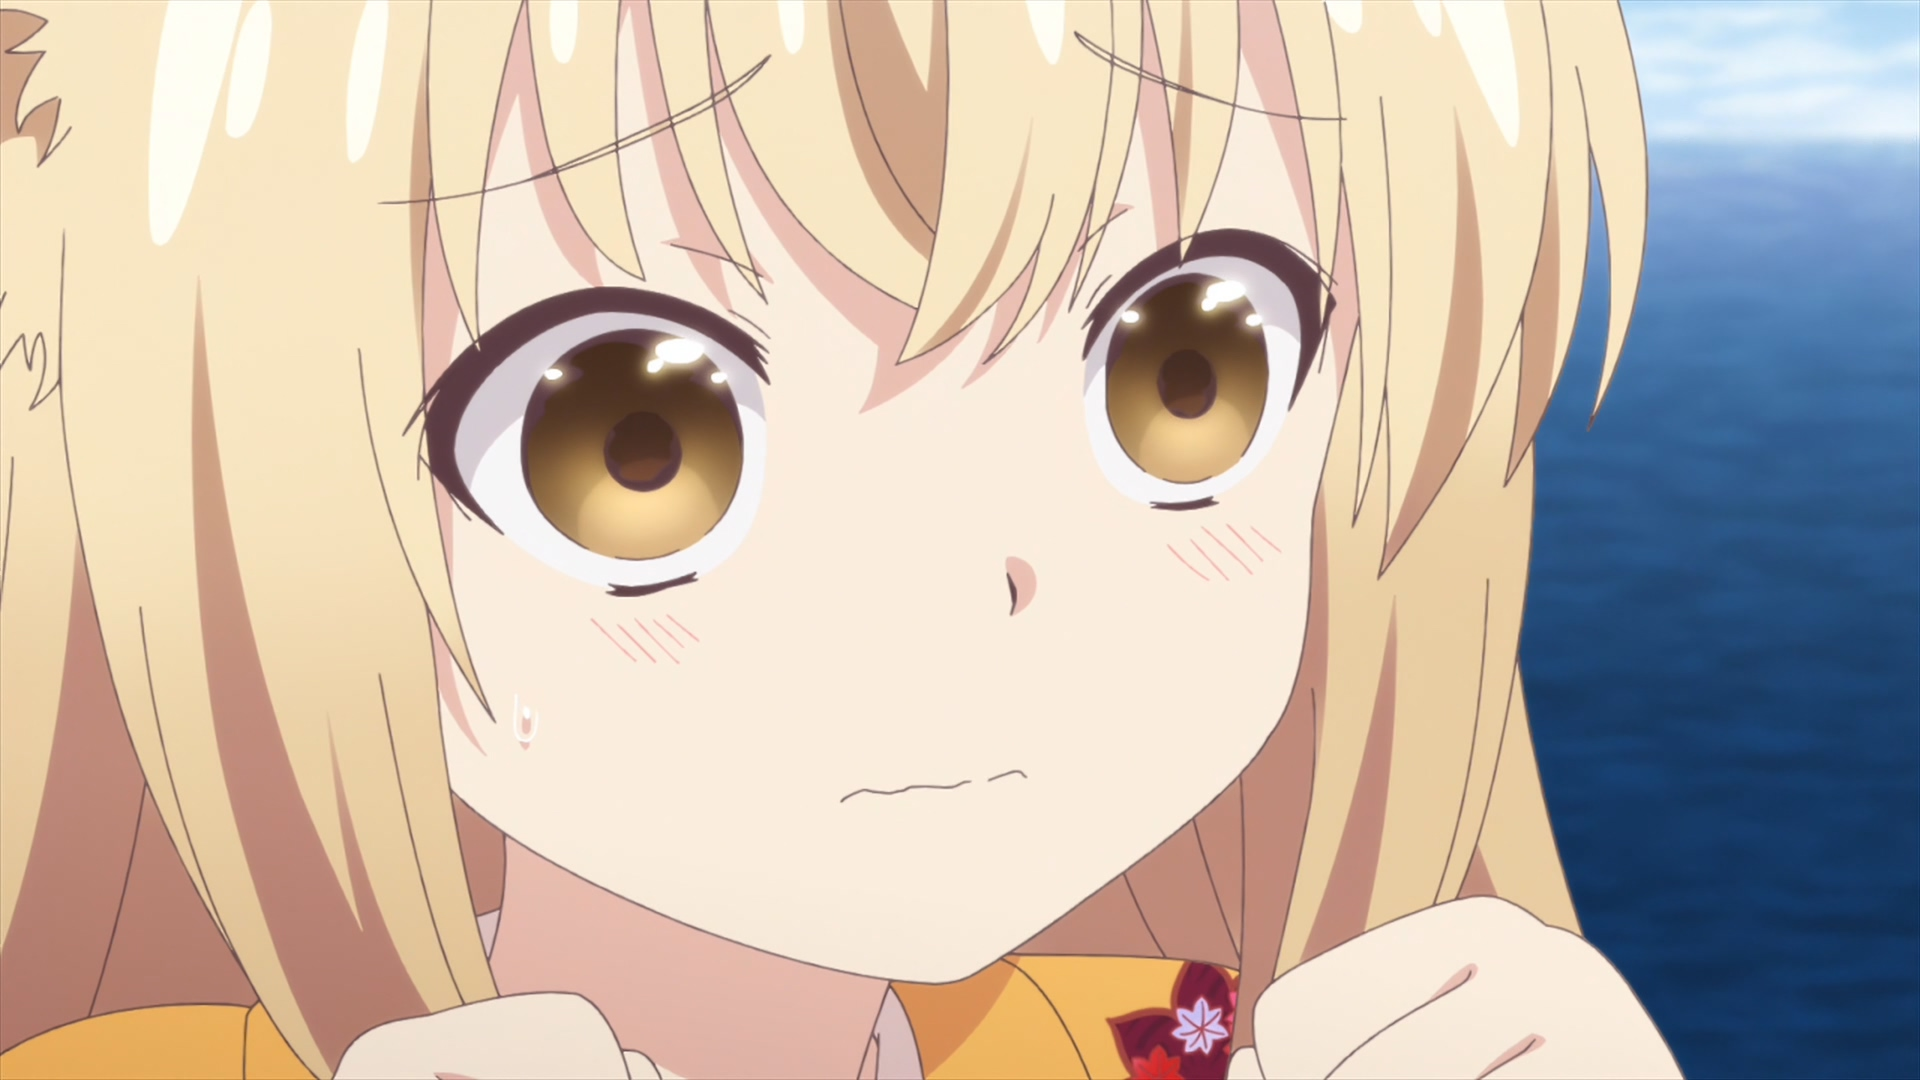柚: (1, 1, 1683, 1080)
